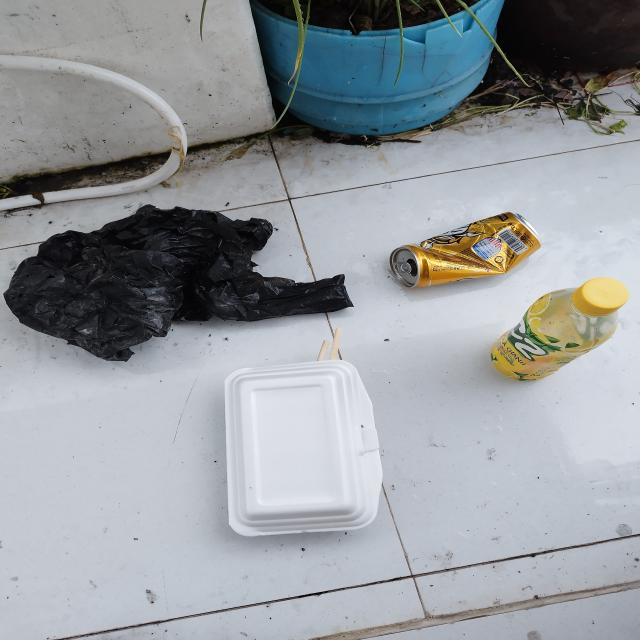bag: (4, 200, 358, 365)
bottle: (488, 277, 628, 382)
can: (388, 210, 544, 292)
foam box: (224, 358, 385, 540)
